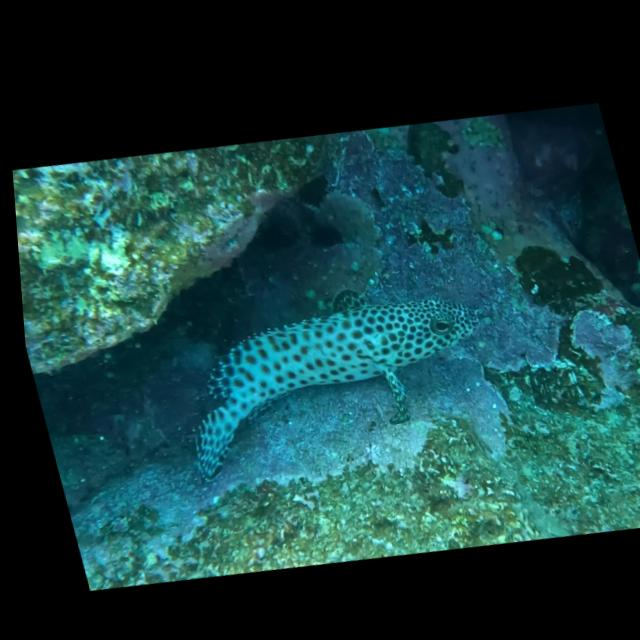Groupers: (148, 244, 530, 511)
